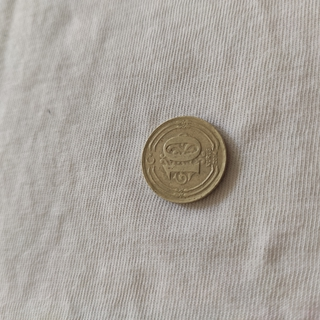10KURUS: (140, 113, 230, 206)
